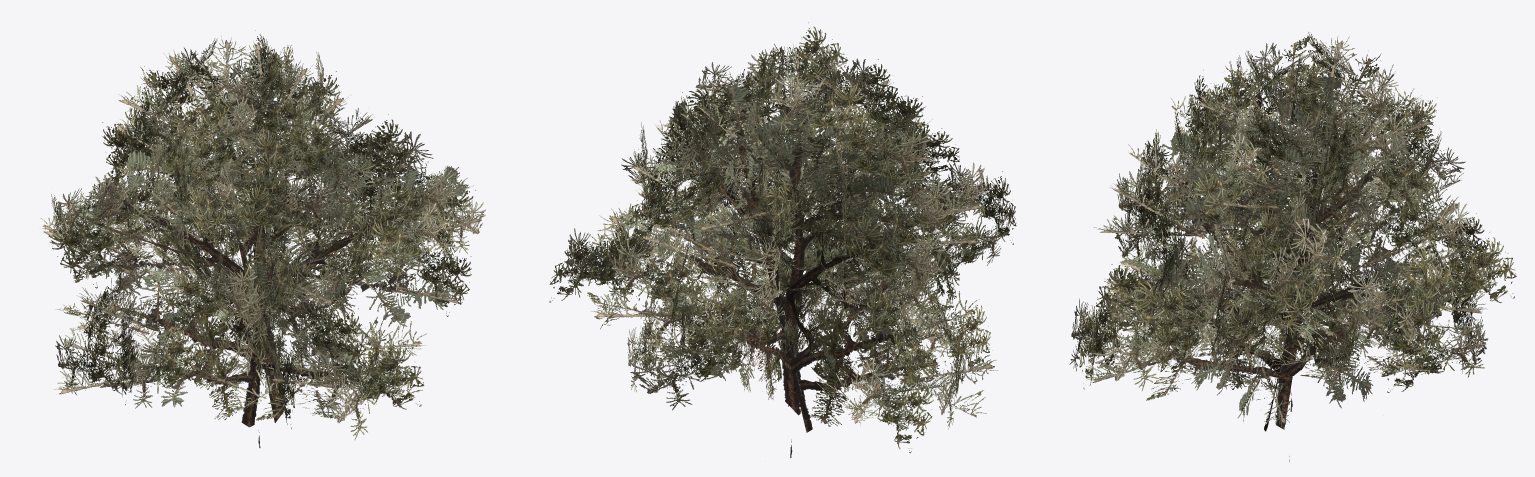
Rendered from Grass2.fbx.
3 views of the same model, side by side, from view 1: azimuth 30°, elevation 25°; view 2: azimuth 150°, elevation 25°; view 3: azimuth 270°, elevation 25° (orthographic). The views are drawn at different scales.
Parts seen in each view (by area): view 1: LV_Gnollando_Bush_FirBush01_PM_HSH; view 2: LV_Gnollando_Bush_FirBush01_PM_HSH; view 3: LV_Gnollando_Bush_FirBush01_PM_HSH.
Part boxes in pixels (box(x1,y1,x2,y2)): LV_Gnollando_Bush_FirBush01_PM_HSH: box(40, 30, 485, 447); LV_Gnollando_Bush_FirBush01_PM_HSH: box(549, 22, 1016, 457); LV_Gnollando_Bush_FirBush01_PM_HSH: box(1069, 32, 1516, 461).
Bounding box in the file's own units: 0.8881 × 0.8312 × 0.8135.
1 material, 1 textured.
